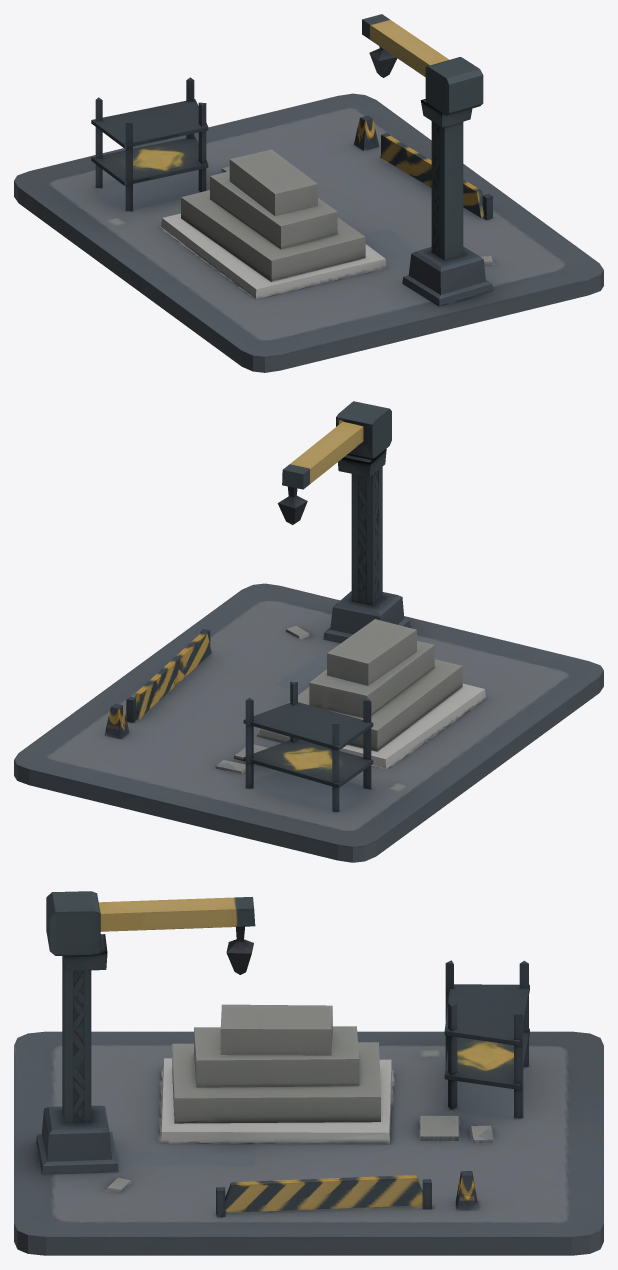
The model's file is Building.glb.
The picture shows the model from 3 angles, top to bottom: view 1: azimuth 30°, elevation 25°; view 2: azimuth 150°, elevation 25°; view 3: azimuth 270°, elevation 25°; orthographic projection. The views are drawn at different scales.
Parts seen in each view (by area): view 1: tripo_node_f631d485-159a-428d-b48a-c94b7908bc1c; view 2: tripo_node_f631d485-159a-428d-b48a-c94b7908bc1c; view 3: tripo_node_f631d485-159a-428d-b48a-c94b7908bc1c.
Boxes of the visible parts, left/top/right/bottom form: tripo_node_f631d485-159a-428d-b48a-c94b7908bc1c: left=14, top=14, right=603, bottom=372; tripo_node_f631d485-159a-428d-b48a-c94b7908bc1c: left=14, top=401, right=603, bottom=862; tripo_node_f631d485-159a-428d-b48a-c94b7908bc1c: left=14, top=891, right=603, bottom=1255.
Bounding box in the file's own units: 0.8223 × 0.5176 × 0.998.
Materials: 1 (1 with a texture image).
